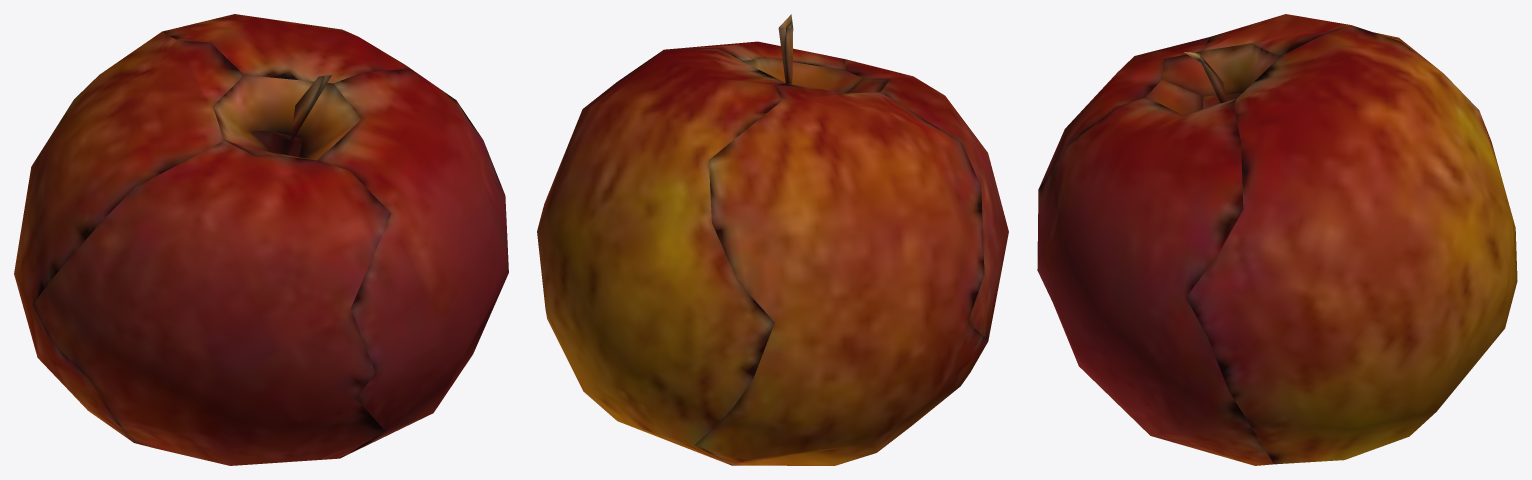
File: food_apple_01.glb
The picture shows the model from 3 angles, left to right: view 1: azimuth 30°, elevation 25°; view 2: azimuth 150°, elevation 25°; view 3: azimuth 270°, elevation 25°; orthographic projection. The views are drawn at different scales.
Visible parts, largest first — view 1: food_apple_01; view 2: food_apple_01; view 3: food_apple_01.
Part boxes in pixels (box(x1,y1,x2,y2)): food_apple_01: box(14, 14, 508, 465); food_apple_01: box(537, 14, 1008, 465); food_apple_01: box(1037, 14, 1517, 465).
Bounding box in the file's own units: 0.0973 × 0.0829 × 0.0946.
Materials: 1 (1 with a texture image).
